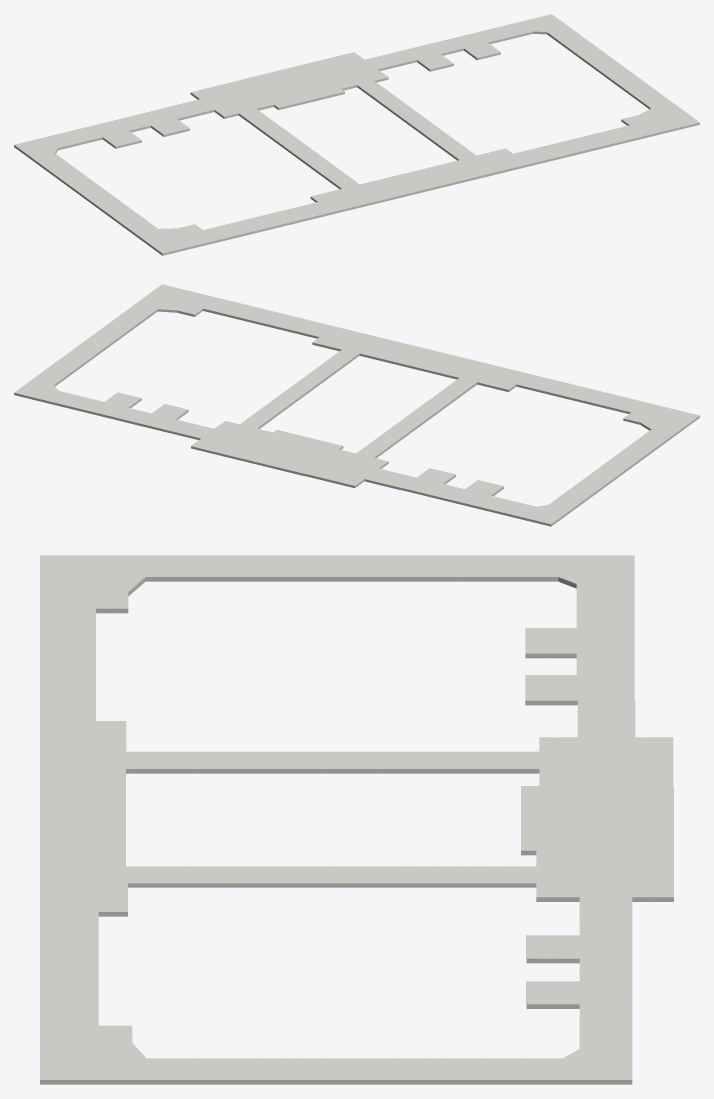
The model's file is Ceiling.fbx.
3 views of the same model, one above another, from view 1: azimuth 30°, elevation 25°; view 2: azimuth 150°, elevation 25°; view 3: azimuth 270°, elevation 25° (orthographic). The views are drawn at different scales.
Parts seen in each view (by area): view 1: Ceiling57, Ceiling18, Ceiling53, Ceiling38, Ceiling14, Ceiling23, Ceiling22, Ceiling21, Ceiling33, Ceiling5, Ceiling15, Ceiling1 (+28 smaller); view 2: Ceiling57, Ceiling18, Ceiling53, Ceiling38, Ceiling14, Ceiling23, Ceiling22, Ceiling21, Ceiling33, Ceiling5, Ceiling15, Ceiling1 (+29 smaller); view 3: Ceiling57, Ceiling53, Ceiling18, Ceiling38, Ceiling14, Ceiling22, Ceiling23, Ceiling33, Ceiling21, Ceiling5, Ceiling43, Ceiling44 (+48 smaller).
Boxes of the visible parts, x1,y1,x2,y2 form: Ceiling57: (241, 64, 344, 110); Ceiling18: (190, 80, 273, 118); Ceiling53: (307, 52, 388, 90); Ceiling38: (621, 105, 699, 138); Ceiling14: (140, 224, 216, 255); Ceiling23: (409, 160, 481, 190); Ceiling22: (359, 172, 430, 202); Ceiling21: (310, 185, 379, 214); Ceiling33: (459, 148, 527, 177); Ceiling5: (44, 126, 102, 149); Ceiling15: (203, 220, 256, 242); Ceiling1: (162, 99, 214, 120); Ceiling57: (238, 430, 343, 476); Ceiling18: (305, 449, 388, 488); Ceiling53: (191, 421, 272, 459); Ceiling38: (139, 284, 217, 316); Ceiling14: (623, 402, 699, 433); Ceiling23: (359, 337, 431, 367); Ceiling22: (410, 350, 481, 379); Ceiling21: (461, 362, 529, 391); Ceiling33: (312, 326, 380, 355); Ceiling5: (476, 495, 534, 519); Ceiling15: (592, 392, 644, 413); Ceiling1: (364, 468, 415, 490); Ceiling57: (521, 786, 673, 855); Ceiling53: (536, 850, 673, 901); Ceiling18: (539, 737, 673, 785); Ceiling38: (40, 1025, 132, 1084); Ceiling14: (40, 555, 128, 613); Ceiling22: (40, 767, 125, 816); Ceiling23: (40, 817, 125, 866); Ceiling33: (40, 866, 127, 916); Ceiling21: (40, 721, 126, 767); Ceiling5: (576, 585, 634, 628); Ceiling43: (394, 1058, 478, 1084); Ceiling44: (478, 1058, 560, 1084).
Size of the model in its own units: 87.75 by 0.3635 by 44.85.
Materials: 1 (1 with a texture image).
